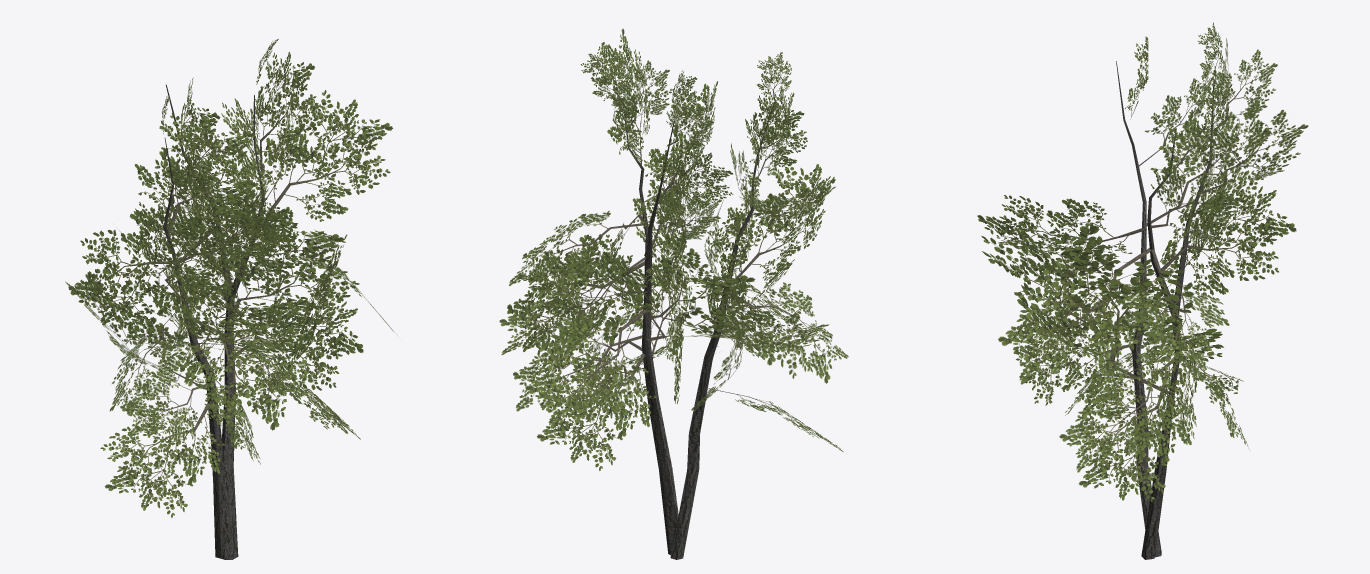
The model's file is tree-10.glb.
3 renders of one model, left to right at view 1: azimuth 30°, elevation 25°; view 2: azimuth 150°, elevation 25°; view 3: azimuth 270°, elevation 25°, orthographic.
Parts seen in each view (by area): view 1: Tree-03-2; view 2: Tree-03-2; view 3: Tree-03-2.
Boxes of the visible parts, <box> form: Tree-03-2: <box>65,39,394,559</box>; Tree-03-2: <box>499,28,848,559</box>; Tree-03-2: <box>977,22,1308,559</box>.
Bounding box in the file's own units: 6.59 × 8.68 × 6.63.
3 materials, 3 textured.
